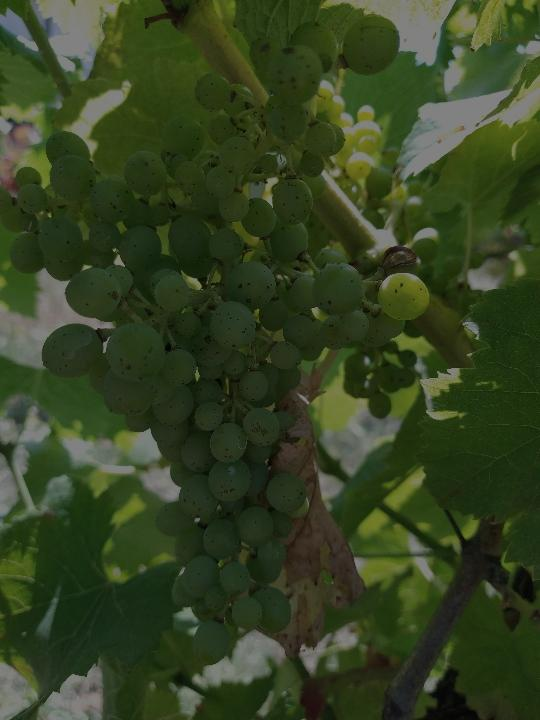grape: (6, 13, 432, 667)
